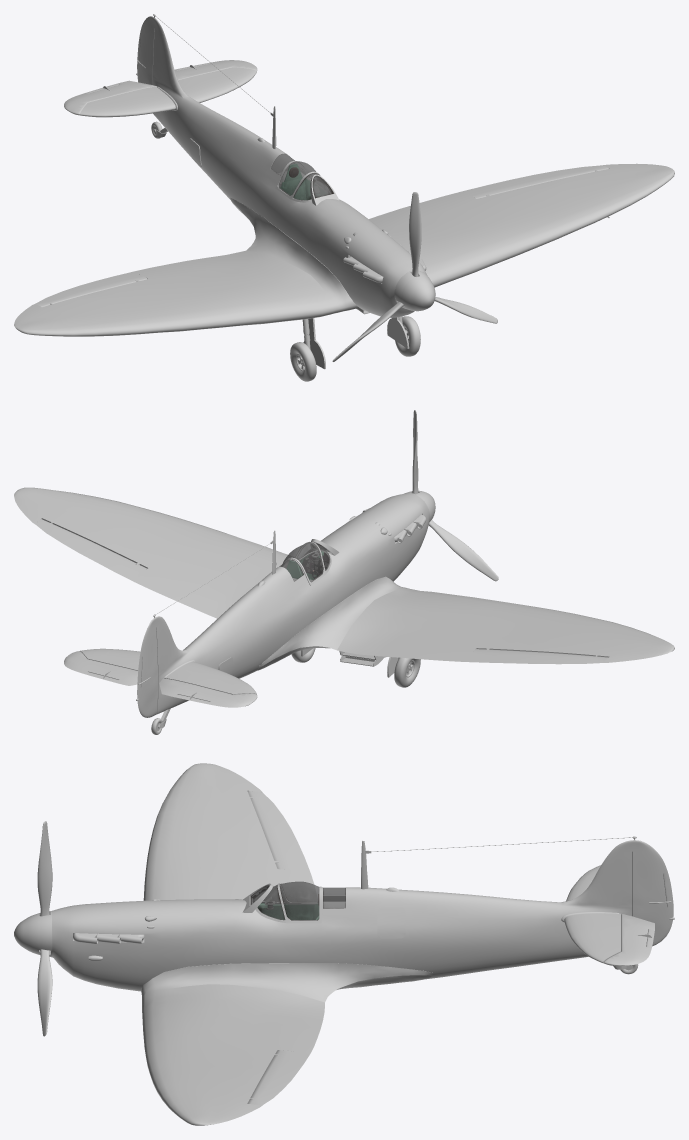
The model's file is Sketchfab_2022_10_10_14_48_42.fbx.
The picture shows the model from 3 angles, top to bottom: view 1: azimuth 30°, elevation 25°; view 2: azimuth 150°, elevation 25°; view 3: azimuth 270°, elevation 25°; orthographic projection. The views are drawn at different scales.
Parts seen in each view (by area): view 1: Cube.003, Circle.003, Plane.002, Cube.020, Cube.041, Plane.005, Circle, Plane.003, Cylinder.012, Circle.012, Cylinder.046, Cube.063; view 2: Cube.003, Circle.003, Cube.020, Plane.005, Plane.002, Plane.003, Cube.041, Circle.012, Cylinder.012; view 3: Cube.003, Circle.003, Cube.020, Plane.003, Plane.002, Cube.041, Plane.005, Circle.012, Circle, Circle.005, Circle.011.
Boxes of the visible parts, x1,y1,x2,y2 form: Cube.003: (14,163,674,336); Circle.003: (153,29,427,317); Plane.002: (80,67,256,117); Cube.020: (35,165,608,306); Cube.041: (332,192,497,361); Plane.005: (64,60,257,115); Circle: (394,270,435,311); Plane.003: (137,16,164,115); Cylinder.012: (290,342,316,381); Circle.012: (278,161,315,195); Cylinder.046: (395,316,420,356); Cube.063: (281,163,310,199); Cube.003: (14,487,674,670); Circle.003: (156,493,429,714); Cube.020: (35,519,608,664); Plane.005: (64,651,257,707); Plane.002: (80,648,256,694); Plane.003: (137,616,164,717); Cube.041: (412,410,498,581); Circle.012: (282,542,323,582); Cylinder.012: (394,657,420,687); Cube.003: (141,763,432,1125); Circle.003: (52,851,631,991); Cube.020: (248,791,309,1105); Plane.003: (612,840,673,946); Plane.002: (564,865,620,963); Cube.041: (37,821,52,1036); Plane.005: (603,914,654,966); Circle.012: (279,881,319,920); Circle: (14,911,51,957); Circle.005: (377,907,405,938); Circle.011: (257,885,285,920).
Bounding box in the file's own units: 212 × 67.98 × 164.
